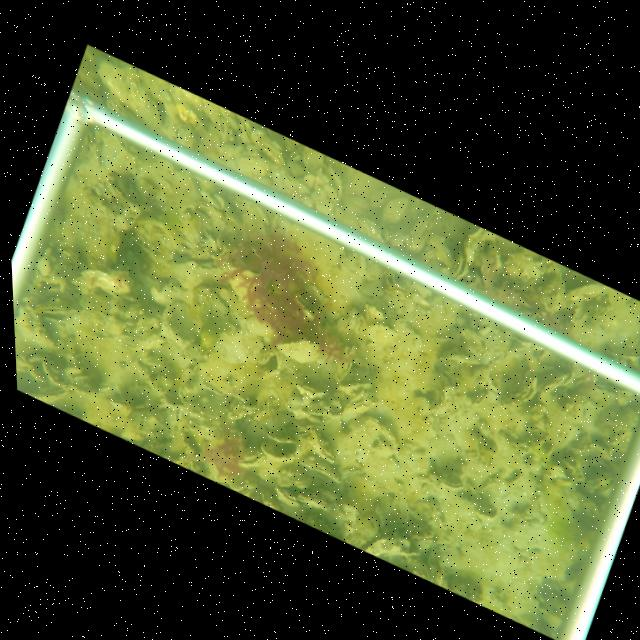Oyster-Closed: (94, 57, 163, 129), (499, 371, 541, 409), (299, 457, 347, 485), (138, 70, 175, 105), (307, 428, 338, 463), (233, 153, 273, 176), (41, 356, 67, 391), (436, 348, 480, 368), (34, 300, 82, 318), (448, 242, 471, 279), (340, 400, 373, 425), (602, 343, 640, 363), (292, 382, 327, 401), (543, 373, 569, 394), (276, 489, 303, 509), (239, 449, 266, 467), (440, 475, 463, 493), (256, 349, 277, 366), (240, 119, 253, 144), (134, 360, 148, 378), (333, 315, 348, 331), (28, 352, 45, 365), (345, 314, 357, 332), (354, 320, 363, 335)
Oyster-Indeterminate: (276, 340, 323, 366), (377, 195, 411, 228), (565, 281, 608, 305)
Oyster-Open: (260, 428, 298, 465), (472, 392, 488, 407), (287, 150, 302, 162)
